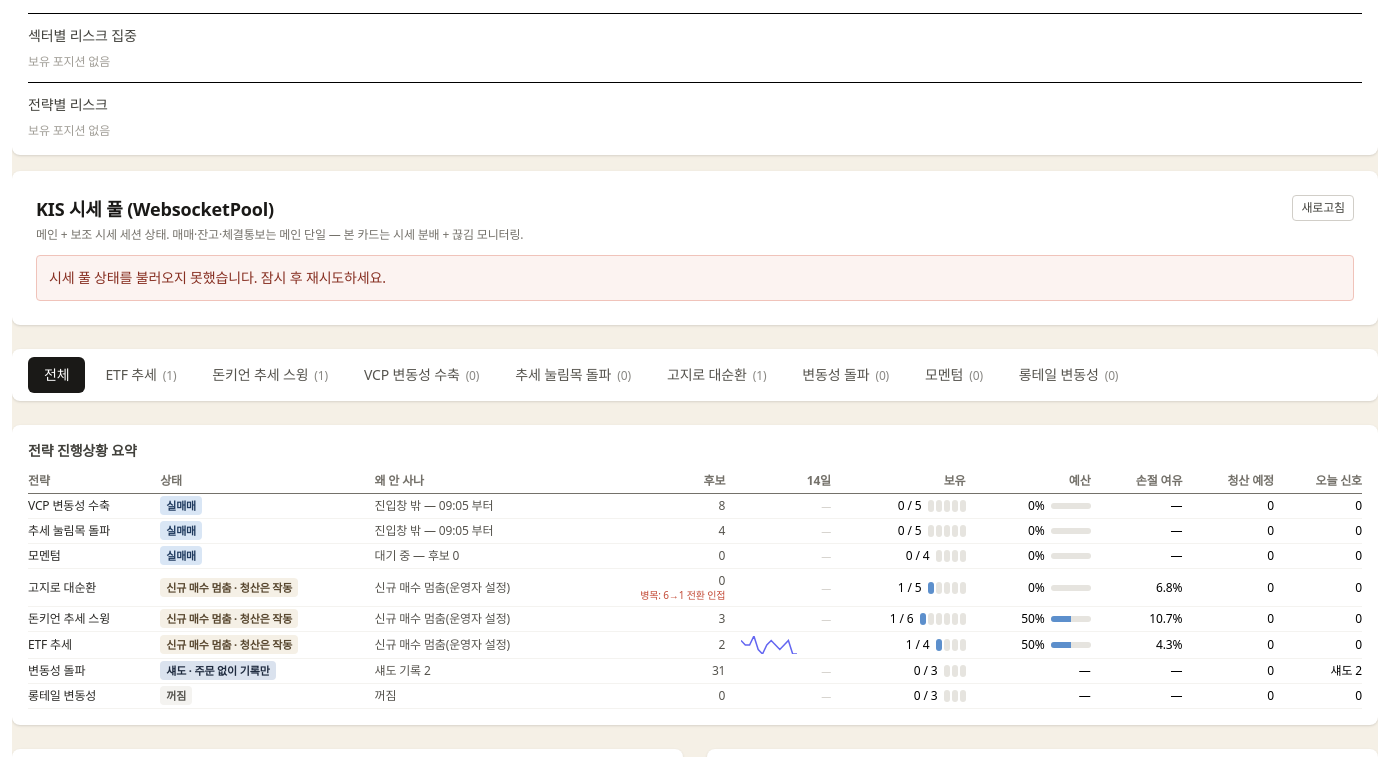
Test case: M10 — 전략 탭에서 깔때기·후보·신호는 한 번만, 모순 문구 0 › BFB 탭 — 깔때기 1 · 후보 칸 1
(page scrolled)
Click the button "추세 눌림목 돌파(0)" at (573, 375), box x1=499 y1=357 x2=647 y2=393
(page scrolled)
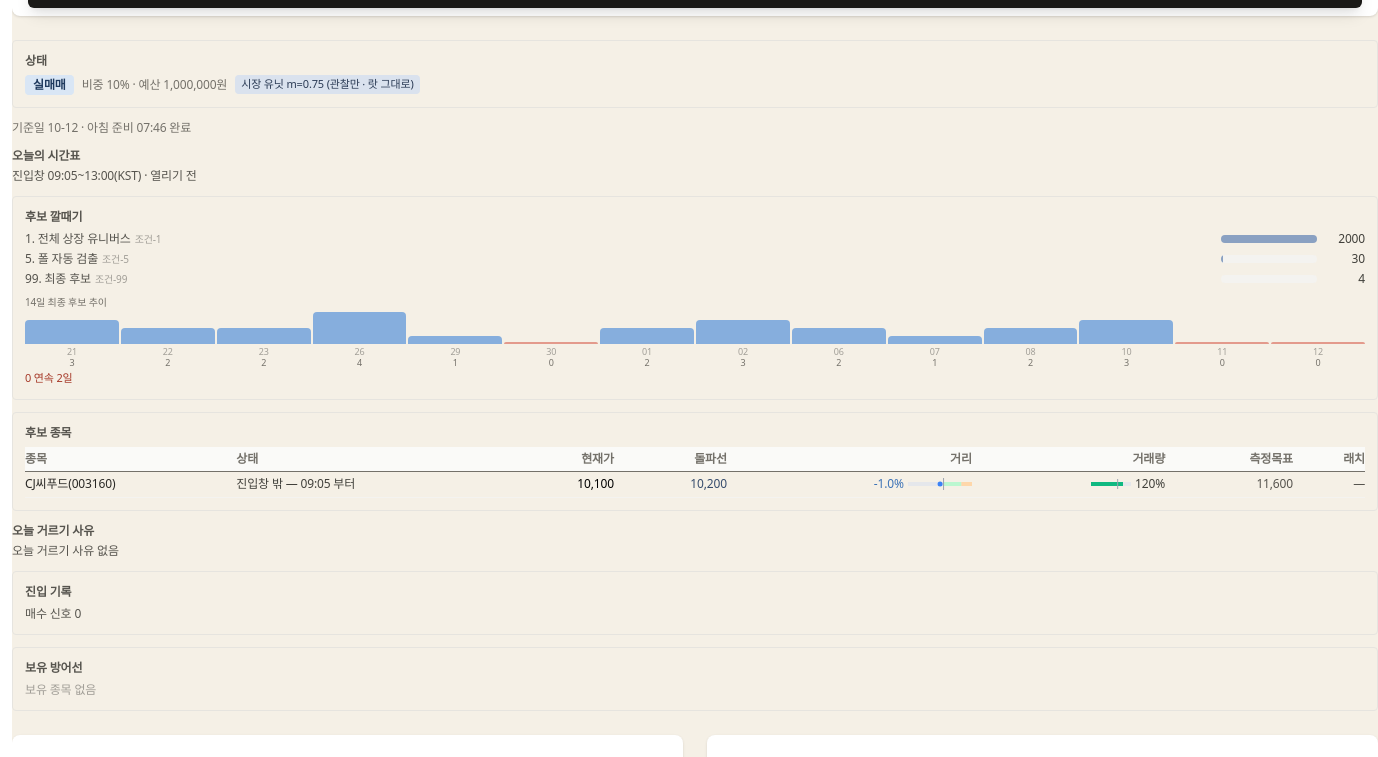
Check: the element with test id "bull_flag_breakout-monitor" is shown
